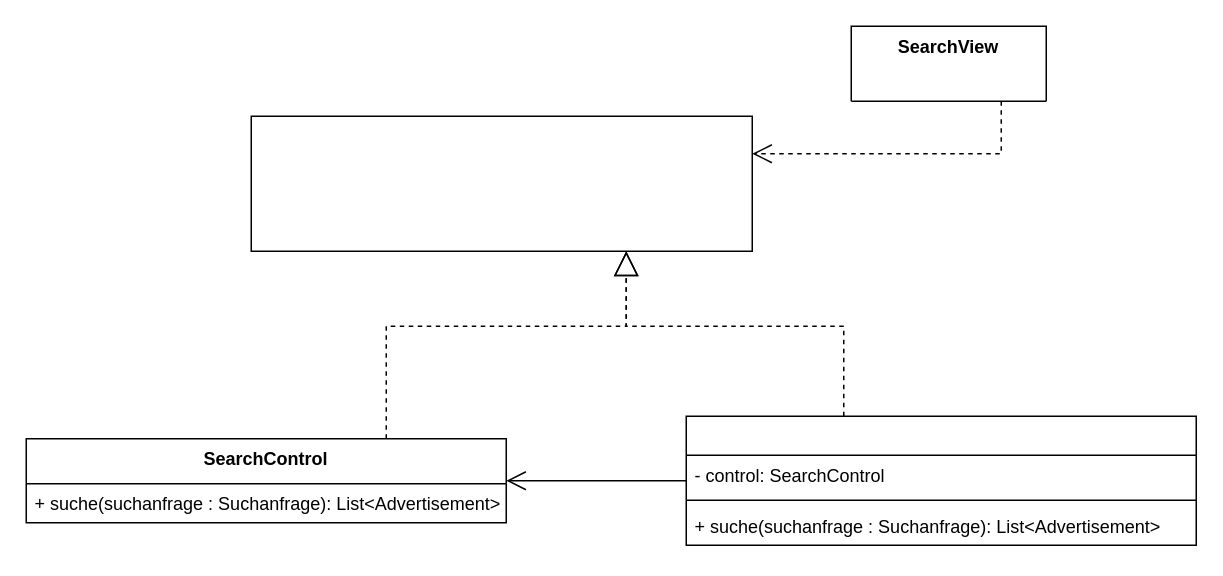
This 1223x576 diagram has some shape labels left out. Each missing label, with the box of its shape:
<<Interface>> Search + suche(suchanfrage : Suchanfrage): List<Advertisement>: (250, 115, 752, 251)
SearchProxy: (685, 415, 1196, 545)
